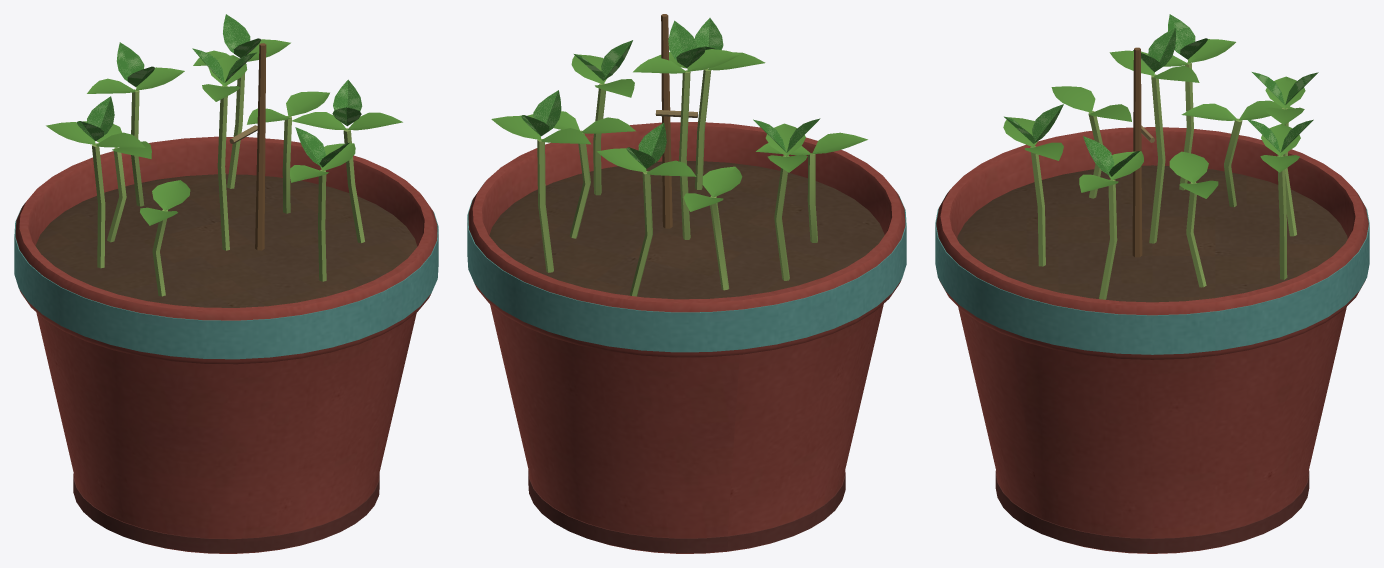
The model's file is potted_seedling.glb.
3 views of the same model, side by side, from view 1: azimuth 30°, elevation 25°; view 2: azimuth 150°, elevation 25°; view 3: azimuth 270°, elevation 25° (orthographic). The views are drawn at different scales.
Visible parts, largest first — view 1: PottedSeedlingBody; view 2: PottedSeedlingBody; view 3: PottedSeedlingBody.
Part boxes in pixels (x1,y1,x2,y2): PottedSeedlingBody: (14,14,438,553); PottedSeedlingBody: (467,14,906,553); PottedSeedlingBody: (935,14,1369,553).
Size of the model in its own units: 0.4324 by 0.5 by 0.4324.
10 materials, 5 textured.
